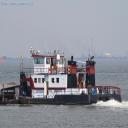tugboat: (20, 48, 124, 109)
